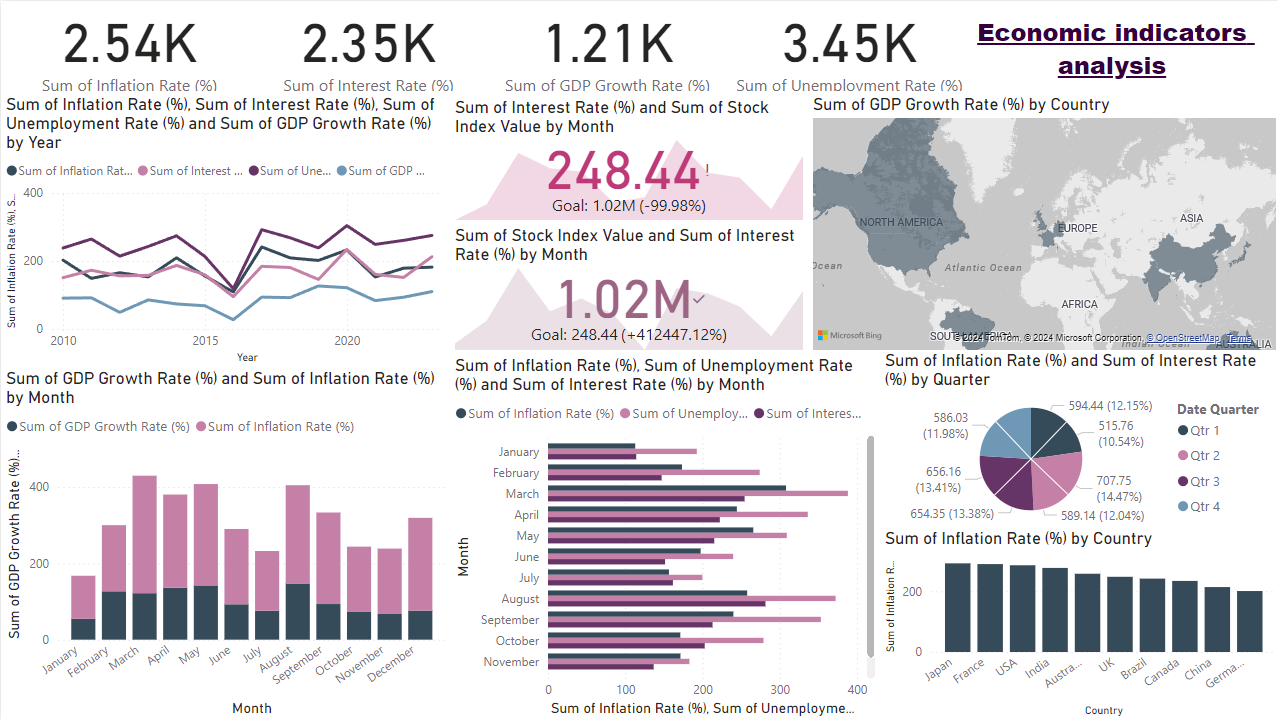

Layout of this report page (visuals, bound fields, positions):
{"tool":"powerbi","page":{"name":"Page 1","canvas":[1280,720],"ordinal":0},"visuals":[{"type":"lineChart","fields":{"Y":["Sum(economic_indicators_dataset_201.Inflation Rate (%))","Sum(economic_indicators_dataset_201.Interest Rate (%))","Sum(economic_indicators_dataset_201.Unemployment Rate (%))","Sum(economic_indicators_dataset_201.GDP Growth Rate (%))"],"Category":["economic_indicators_dataset_201.Date.Variation.Date Hierarchy.Year"]},"box":[0,93.3,448.6,273.3],"z":0},{"type":"columnChart","fields":{"Y":["Sum(economic_indicators_dataset_201.GDP Growth Rate (%))","Sum(economic_indicators_dataset_201.Inflation Rate (%))"],"Category":["economic_indicators_dataset_201.Date.Variation.Date Hierarchy.Month"]},"box":[0,366.7,448.6,353.3],"z":1000},{"type":"clusteredBarChart","fields":{"Category":["economic_indicators_dataset_201.Date.Variation.Date Hierarchy.Month"],"Y":["Sum(economic_indicators_dataset_201.Inflation Rate (%))","Sum(economic_indicators_dataset_201.Unemployment Rate (%))","Sum(economic_indicators_dataset_201.Interest Rate (%))"]},"box":[449,354,430,366],"z":2000},{"type":"filledMap","fields":{"Category":["economic_indicators_dataset_201.Country"]},"box":[807,93,473,261],"z":3000},{"type":"pieChart","fields":{"Category":["economic_indicators_dataset_201.Date.Variation.Date Hierarchy.Quarter"],"Y":["Sum(economic_indicators_dataset_201.Inflation Rate (%))","Sum(economic_indicators_dataset_201.Interest Rate (%))"]},"box":[879,349,401,180],"z":4000},{"type":"kpi","fields":{"Indicator":["Sum(economic_indicators_dataset_201.Stock Index Value)"],"Goal":["Sum(economic_indicators_dataset_201.Interest Rate (%))"],"TrendLine":["economic_indicators_dataset_201.Date.Variation.Date Hierarchy.Month"]},"box":[449,224,358,130],"z":5000},{"type":"kpi","fields":{"Indicator":["Sum(economic_indicators_dataset_201.Interest Rate (%))"],"Goal":["Sum(economic_indicators_dataset_201.Stock Index Value)"],"TrendLine":["economic_indicators_dataset_201.Date.Variation.Date Hierarchy.Month"]},"box":[449,96,358,128],"z":6000},{"type":"card","fields":{"Values":["Sum(economic_indicators_dataset_201.Inflation Rate (%))"]},"box":[0,0,257.1,96.2],"z":7000},{"type":"card","fields":{"Values":["Sum(economic_indicators_dataset_201.Interest Rate (%))"]},"box":[239,0,257.1,96.2],"z":8000},{"type":"card","fields":{"Values":["Sum(economic_indicators_dataset_201.GDP Growth Rate (%))"]},"box":[478.1,0,257.1,96.2],"z":9000},{"type":"card","fields":{"Values":["Sum(economic_indicators_dataset_201.Unemployment Rate (%))"]},"box":[720,0,257.1,96.2],"z":10000},{"type":"textbox","box":[961,8.6,300,78.1],"z":11000},{"type":"lineClusteredColumnComboChart","fields":{"Y":["Sum(economic_indicators_dataset_201.Inflation Rate (%))"],"Category":["economic_indicators_dataset_201.Country"]},"box":[879,527,401,193],"z":12000}]}

Visuals, with their boxes in screenshot pixels (x1, y1, x2, y2), scaled from the page's 1280x720 canvas onto the 1278x720 screenshot:
lineChart - Sum(economic_indicators_dataset_201.Inflation Rate (%)) x Sum(economic_indicators_dataset_201.Interest Rate (%)): [x1=0, y1=93, x2=448, y2=367]
columnChart - Sum(economic_indicators_dataset_201.GDP Growth Rate (%)) x Sum(economic_indicators_dataset_201.Inflation Rate (%)): [x1=0, y1=367, x2=448, y2=719]
clusteredBarChart - economic_indicators_dataset_201.Date.Variation.Date Hierarchy.Month x Sum(economic_indicators_dataset_201.Inflation Rate (%)): [x1=448, y1=354, x2=878, y2=719]
filledMap - economic_indicators_dataset_201.Country: [x1=806, y1=93, x2=1277, y2=354]
pieChart - economic_indicators_dataset_201.Date.Variation.Date Hierarchy.Quarter x Sum(economic_indicators_dataset_201.Inflation Rate (%)): [x1=878, y1=349, x2=1277, y2=529]
kpi - Sum(economic_indicators_dataset_201.Stock Index Value) x Sum(economic_indicators_dataset_201.Interest Rate (%)): [x1=448, y1=224, x2=806, y2=354]
kpi - Sum(economic_indicators_dataset_201.Interest Rate (%)) x Sum(economic_indicators_dataset_201.Stock Index Value): [x1=448, y1=96, x2=806, y2=224]
card - Sum(economic_indicators_dataset_201.Inflation Rate (%)): [x1=0, y1=0, x2=257, y2=96]
card - Sum(economic_indicators_dataset_201.Interest Rate (%)): [x1=239, y1=0, x2=495, y2=96]
card - Sum(economic_indicators_dataset_201.GDP Growth Rate (%)): [x1=477, y1=0, x2=734, y2=96]
card - Sum(economic_indicators_dataset_201.Unemployment Rate (%)): [x1=719, y1=0, x2=976, y2=96]
textbox: [x1=959, y1=9, x2=1259, y2=87]
lineClusteredColumnComboChart - Sum(economic_indicators_dataset_201.Inflation Rate (%)) x economic_indicators_dataset_201.Country: [x1=878, y1=527, x2=1277, y2=719]
